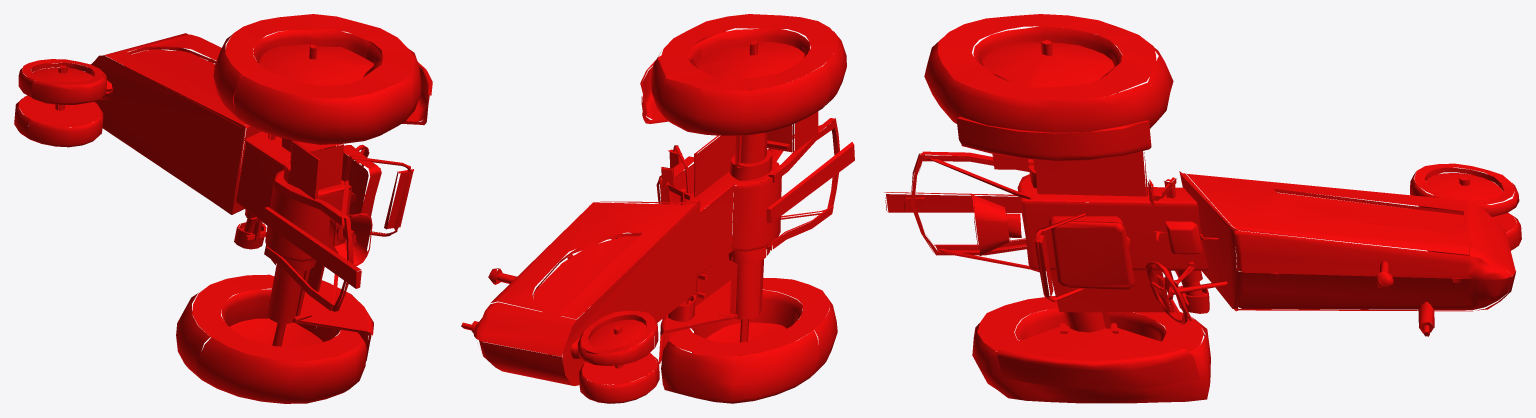
3 views of the same model, side by side, from view 1: azimuth 30°, elevation 25°; view 2: azimuth 150°, elevation 25°; view 3: azimuth 270°, elevation 25° (orthographic). The views are drawn at different scales.
Visible parts, largest first — view 1: Renderer Node; view 2: Renderer Node; view 3: Renderer Node.
Part boxes in pixels (left/top/right/bottom): Renderer Node: left=14, top=14, right=432, bottom=403; Renderer Node: left=461, top=14, right=854, bottom=403; Renderer Node: left=884, top=14, right=1521, bottom=403.
Bounding box in the file's own units: 0.8435 × 1.18 × 1.9.
Materials: 1 (1 with a texture image).
